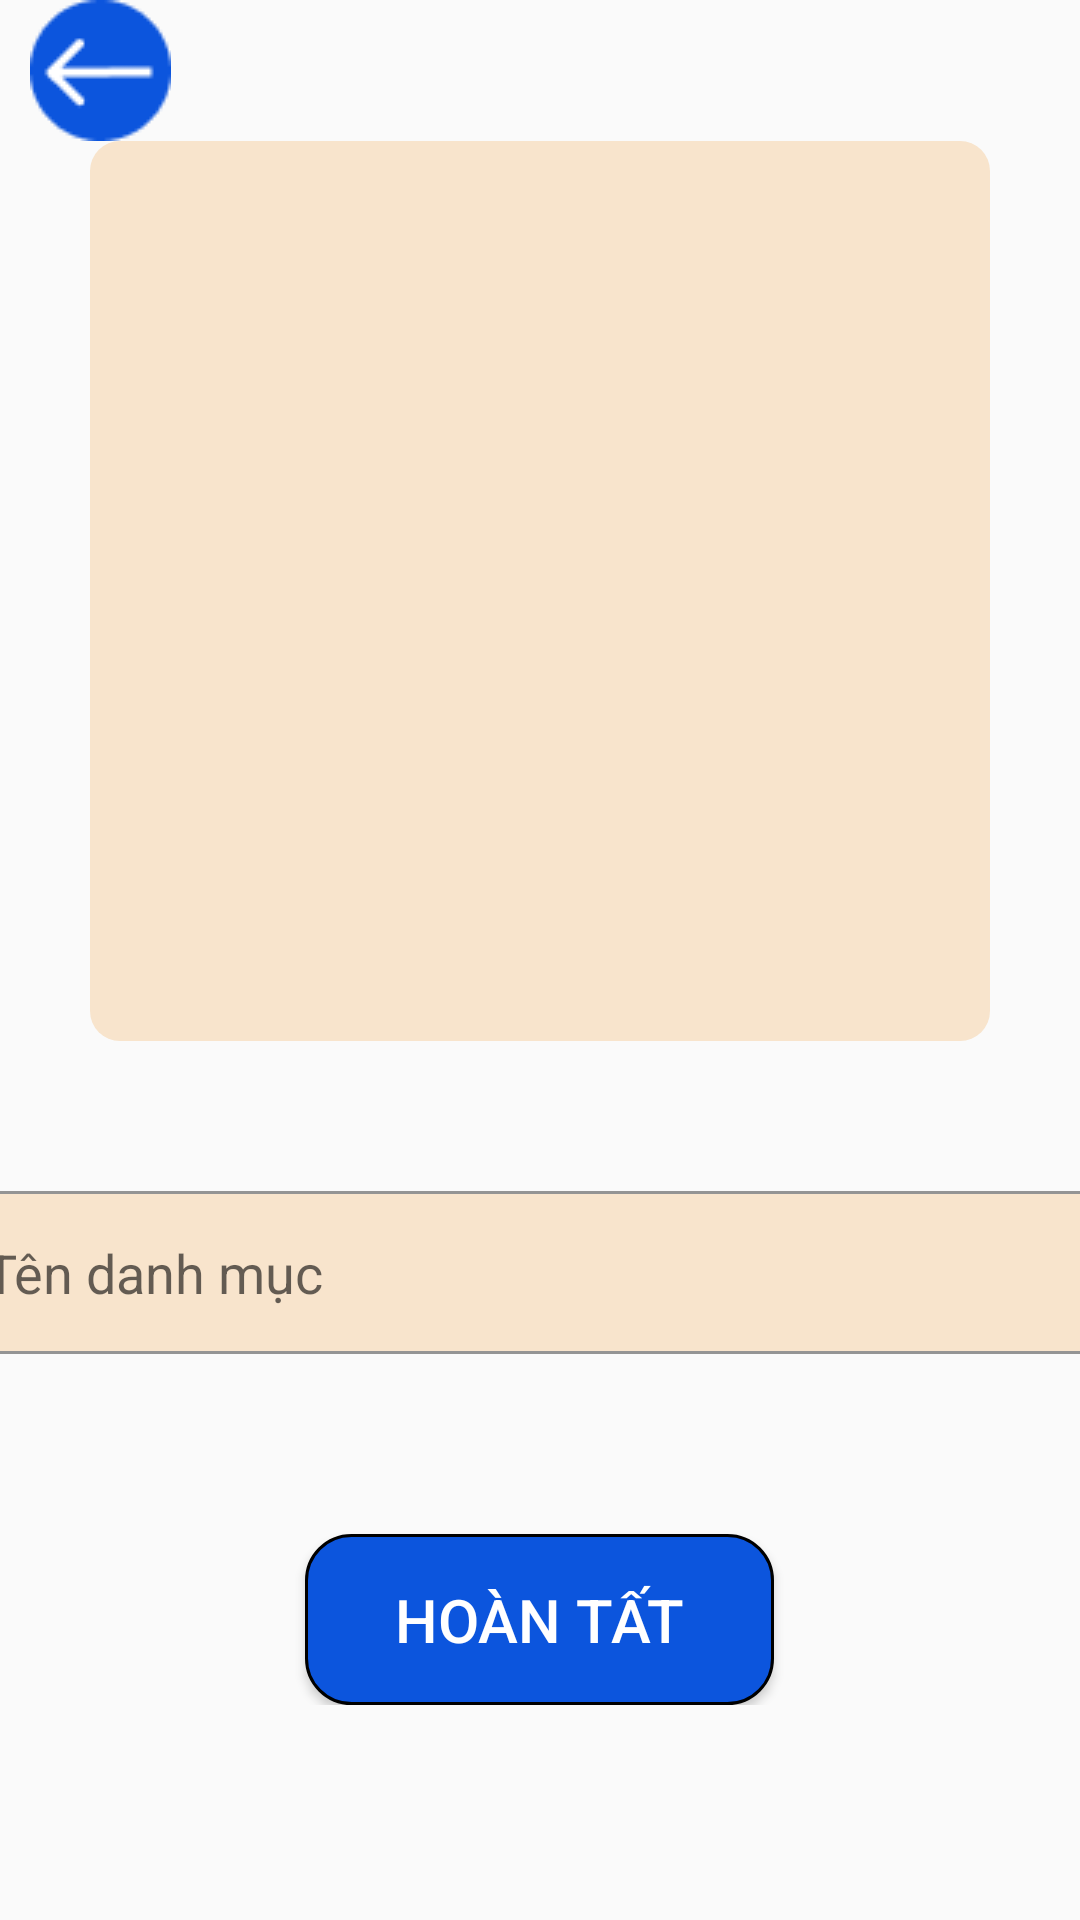

Named icons in this screenshot (1080px x 1920px) and their bounding boxes, (left=x1, top=y1, right=x2, bottom=y2):
back: (left=30, top=0, right=171, bottom=141)
